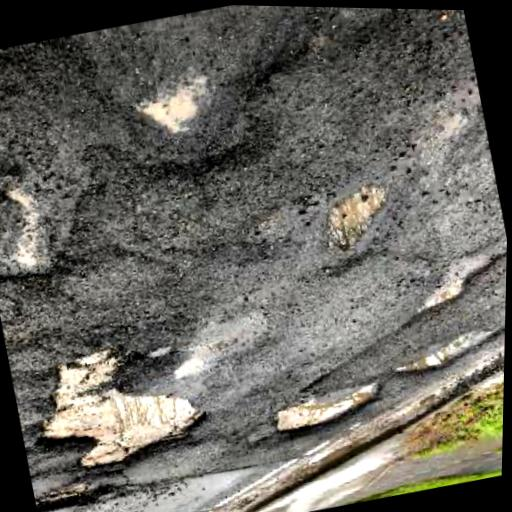pothole: (17, 327, 223, 491), (0, 177, 72, 299), (267, 377, 387, 444), (389, 324, 502, 386), (314, 179, 399, 257), (33, 478, 118, 512)
